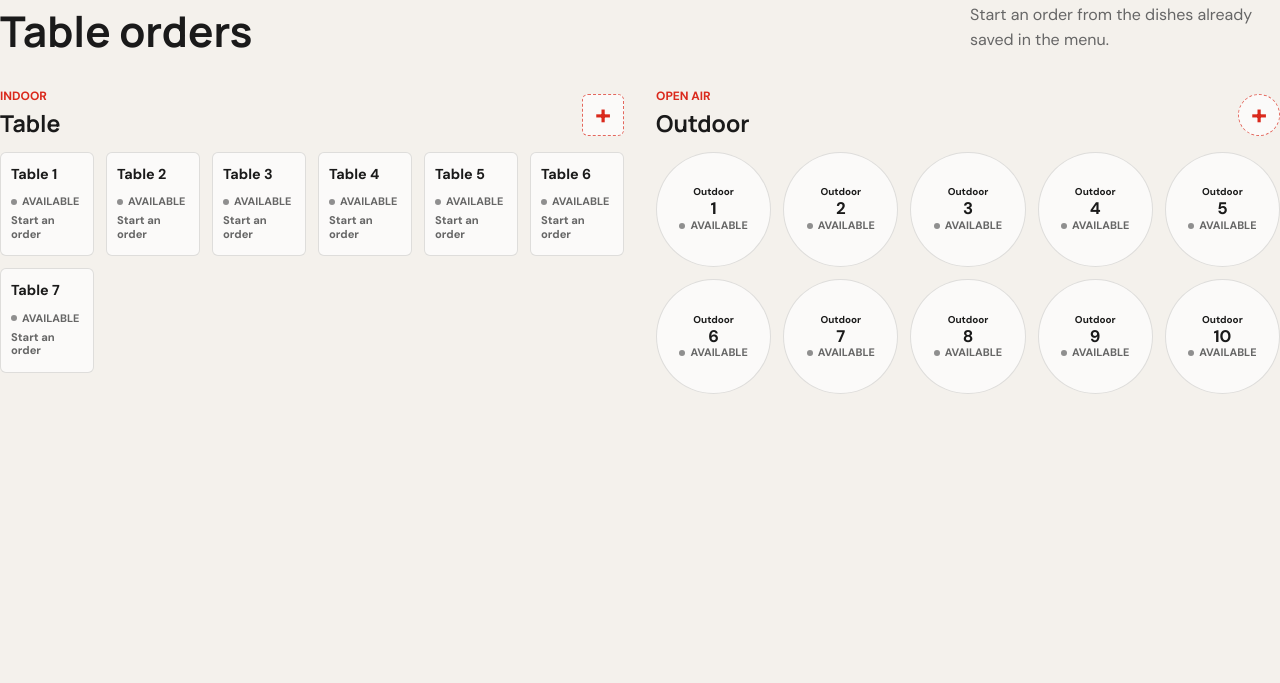
it: TableManager › shows add-ons only for the selected item and saves their price with the order
Click the button "Table 1 Available Start an order": (47, 204) 0,152 -> 94,256
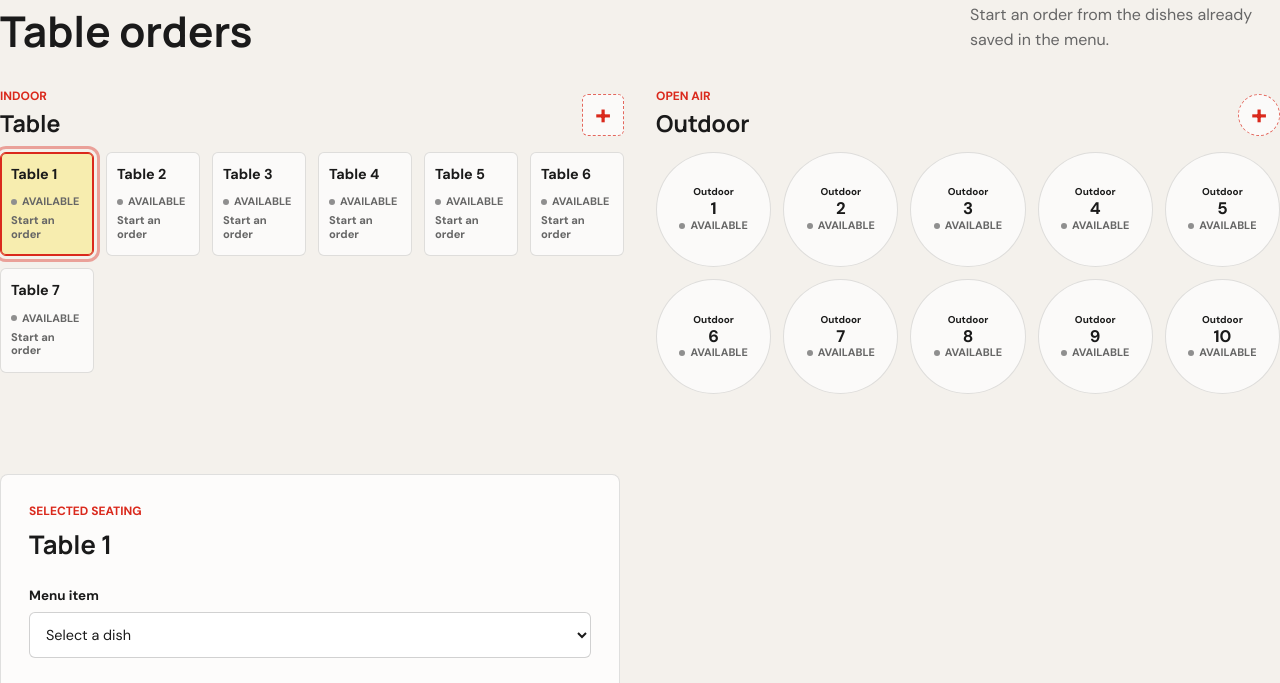
Select "Veg Sandwich - ₹65.00" in the dropdown labelled "Menu item": (310, 635) 29,612 -> 591,658
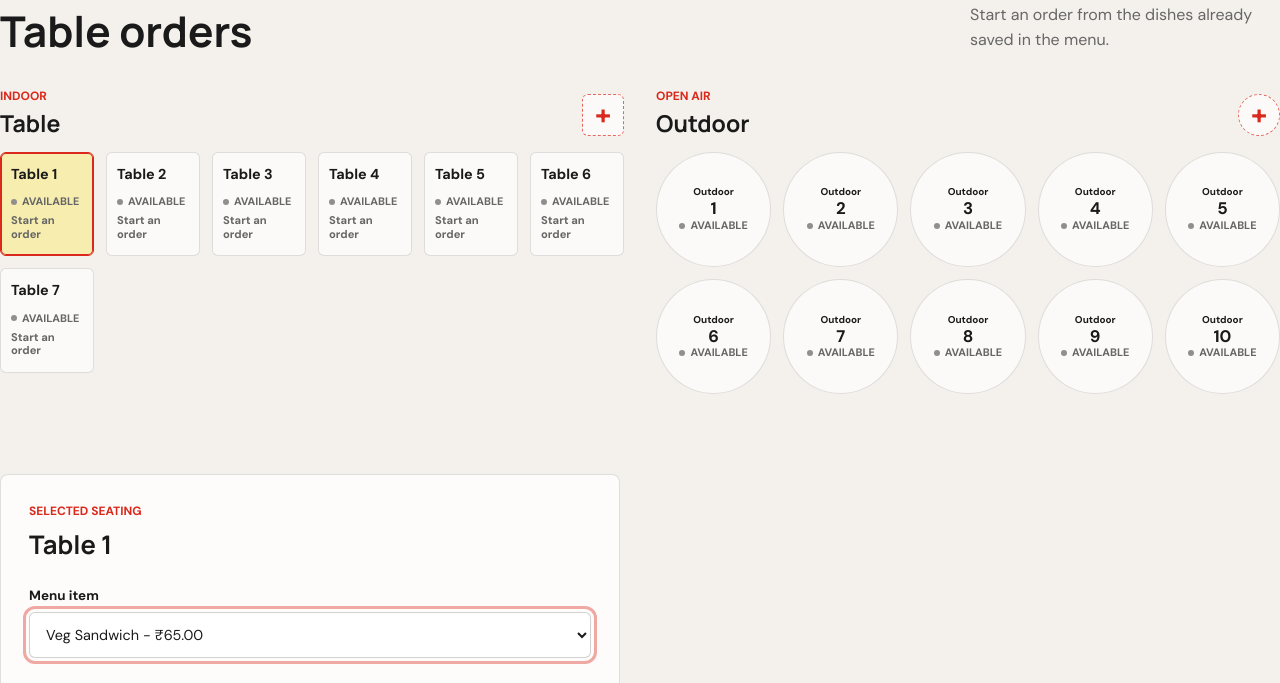
Select "Chicken Sandwich - ₹90.00" in the dropdown labelled "Menu item": (310, 635) 29,612 -> 591,658
(page scrolled)
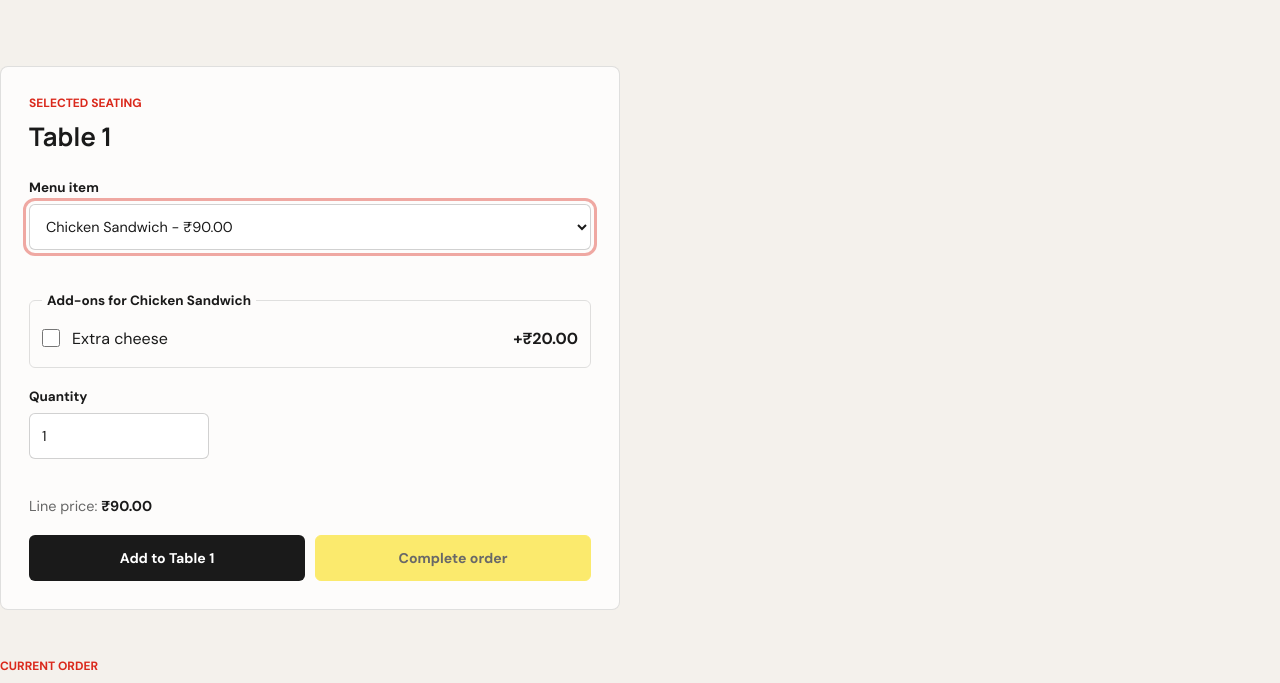
Click the checkbox named "Add Extra cheese": (51, 338) 42,329 -> 60,347
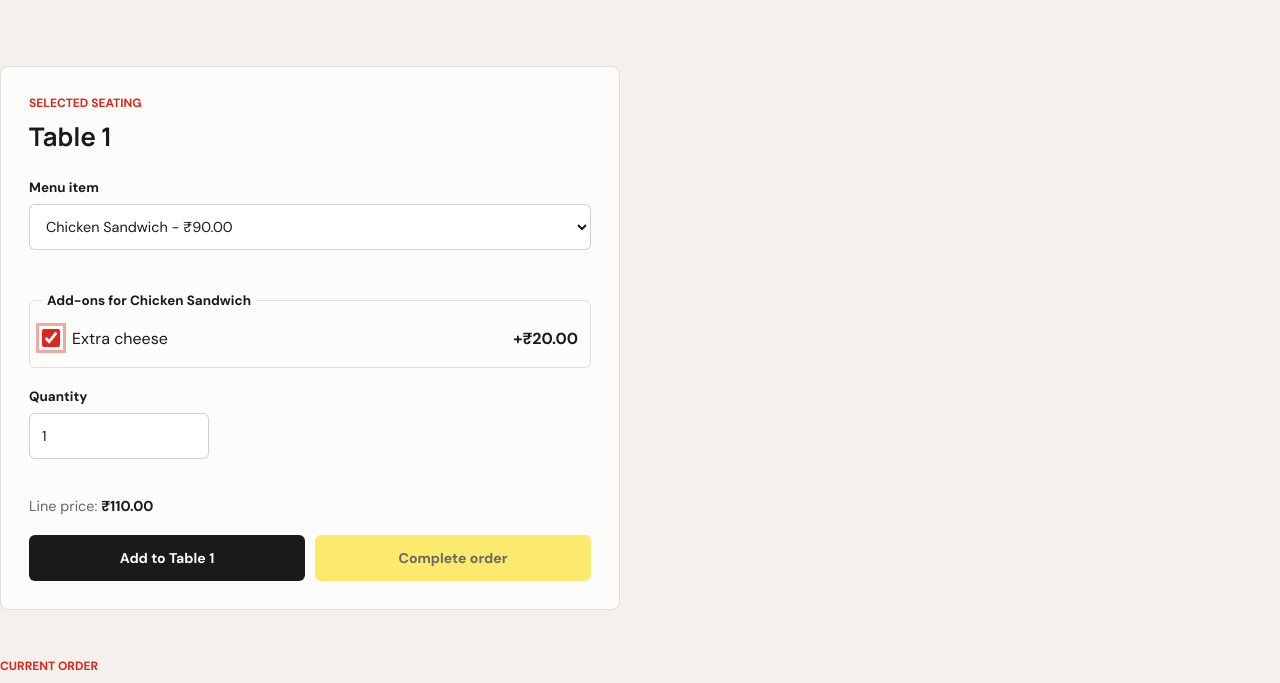
Expected: the text "Line price:" is shown, 29,497 -> 101,515
Expected: the text "₹110.00" is shown, 101,497 -> 153,515
Click the button "Add to Table 1": (167, 558) 29,535 -> 305,581
(page scrolled)
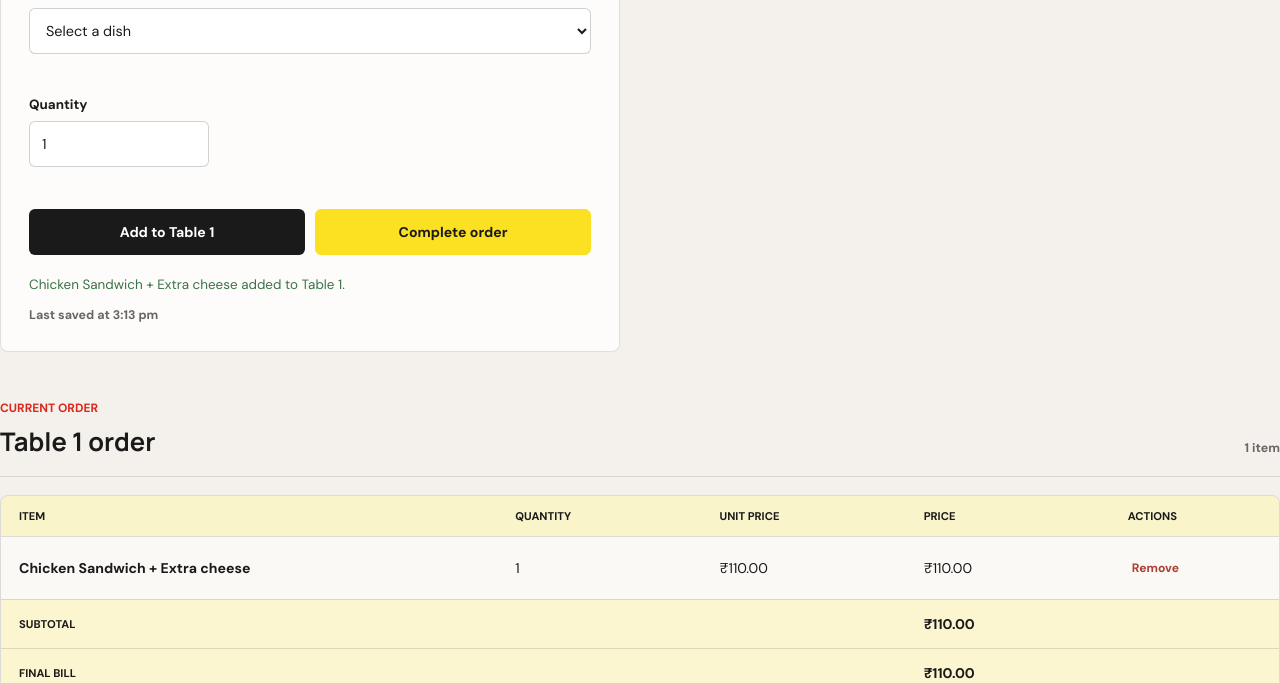
Expected: the text "Chicken Sandwich + Extra cheese" is shown, 1,536 -> 497,599
